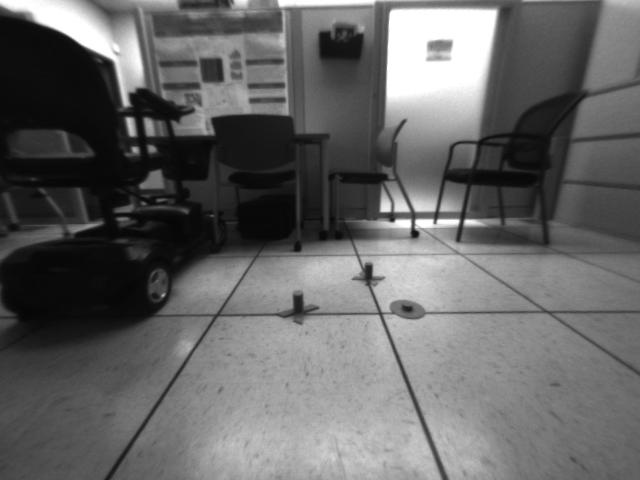X: (276, 288, 322, 325), (351, 262, 386, 287)
